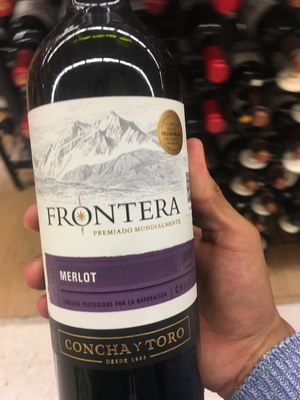frontera merlot: (22, 4, 208, 386)
